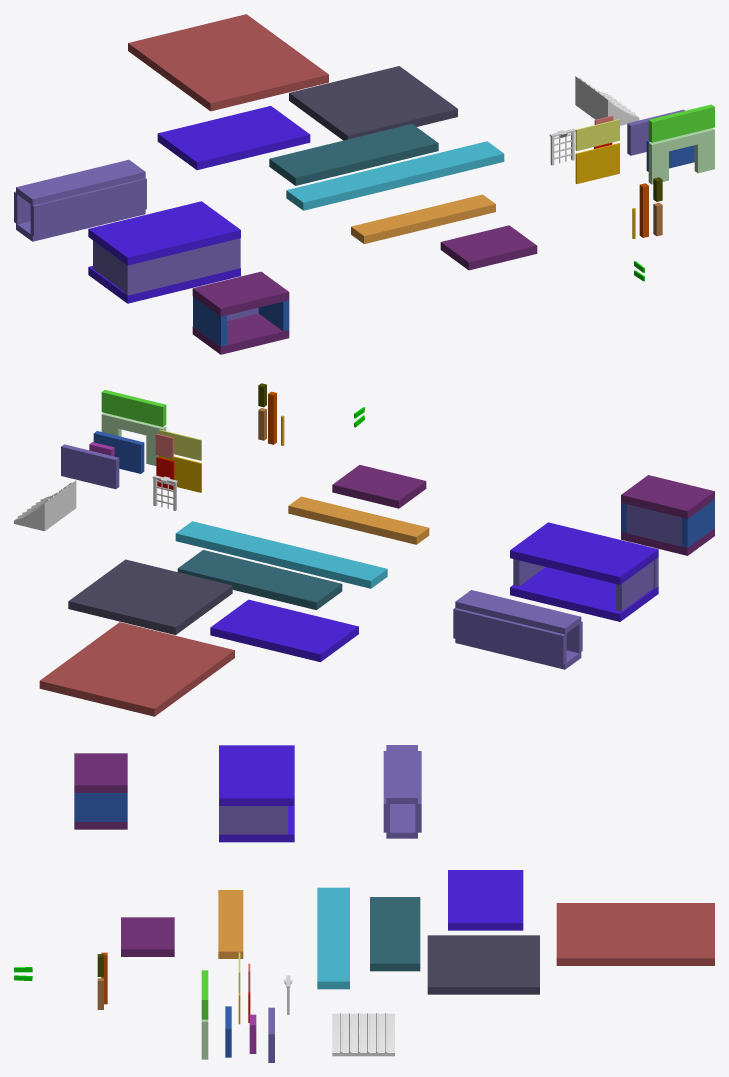
File: Blocky_Modules_References.fbx
3 renders of one model, top to bottom at view 1: azimuth 30°, elevation 25°; view 2: azimuth 150°, elevation 25°; view 3: azimuth 270°, elevation 25°, orthographic. The views are drawn at different scales.
Parts seen in each view (by area): view 1: Module_015, Module_011, Module_016, Essai_Assemblage_029, Module_014, Module_013, Module_020, Essai_Assemblage_05, Module_010, Module_08, Essai_Assemblage_024, Essai_Assemblage_01 (+16 smaller); view 2: Module_015, Module_011, Essai_Assemblage_029, Module_016, Module_014, Module_013, Essai_Assemblage_034, Module_020, Module_010, Essai_Assemblage_05, Module_09, Essai_Assemblage_021 (+15 smaller); view 3: Module_015, Module_011, Essai_Assemblage_029, Module_016, Module_013, Module_014, Module_024, Module_010, Essai_Assemblage_05, Essai_Assemblage_030, Module_020, Essai_Assemblage_03 (+4 smaller).
Part boxes in pixels (left/top/right/bottom): Module_015: left=128, top=14, right=328, bottom=111; Module_011: left=289, top=66, right=457, bottom=140; Module_016: left=157, top=106, right=310, bottom=170; Essai_Assemblage_029: left=88, top=201, right=240, bottom=265; Module_014: left=286, top=141, right=504, bottom=210; Module_013: left=269, top=124, right=438, bottom=185; Module_020: left=351, top=194, right=495, bottom=243; Essai_Assemblage_05: left=192, top=271, right=289, bottom=316; Module_010: left=440, top=225, right=537, bottom=270; Module_08: left=648, top=128, right=714, bottom=184; Essai_Assemblage_024: left=30, top=192, right=90, bottom=236; Essai_Assemblage_01: left=192, top=313, right=289, bottom=354; Module_015: left=39, top=622, right=234, bottom=716; Module_011: left=68, top=559, right=232, bottom=634; Essai_Assemblage_029: left=510, top=522, right=658, bottom=584; Module_016: left=210, top=599, right=358, bottom=662; Module_014: left=175, top=521, right=387, bottom=588; Module_013: left=177, top=550, right=342, bottom=609; Essai_Assemblage_034: left=510, top=567, right=658, bottom=621; Module_020: left=288, top=496, right=429, bottom=544; Module_010: left=332, top=465, right=426, bottom=508; Essai_Assemblage_05: left=621, top=475, right=714, bottom=518; Module_09: left=61, top=444, right=119, bottom=489; Essai_Assemblage_021: left=508, top=621, right=566, bottom=664; Module_015: left=556, top=903, right=714, bottom=965; Module_011: left=427, top=935, right=539, bottom=994; Essai_Assemblage_029: left=219, top=745, right=294, bottom=805; Module_016: left=448, top=870, right=523, bottom=930; Module_013: left=370, top=897, right=420, bottom=971; Module_014: left=317, top=887, right=349, bottom=989; Module_024: left=332, top=1013, right=394, bottom=1056; Module_010: left=121, top=917, right=174, bottom=956; Essai_Assemblage_05: left=74, top=753, right=127, bottom=792; Essai_Assemblage_030: left=225, top=806, right=287, bottom=834; Module_020: left=218, top=890, right=243, bottom=958; Essai_Assemblage_03: left=74, top=793, right=127, bottom=821.
Size of the model in its own units: 11847 by 1190 by 12658.
